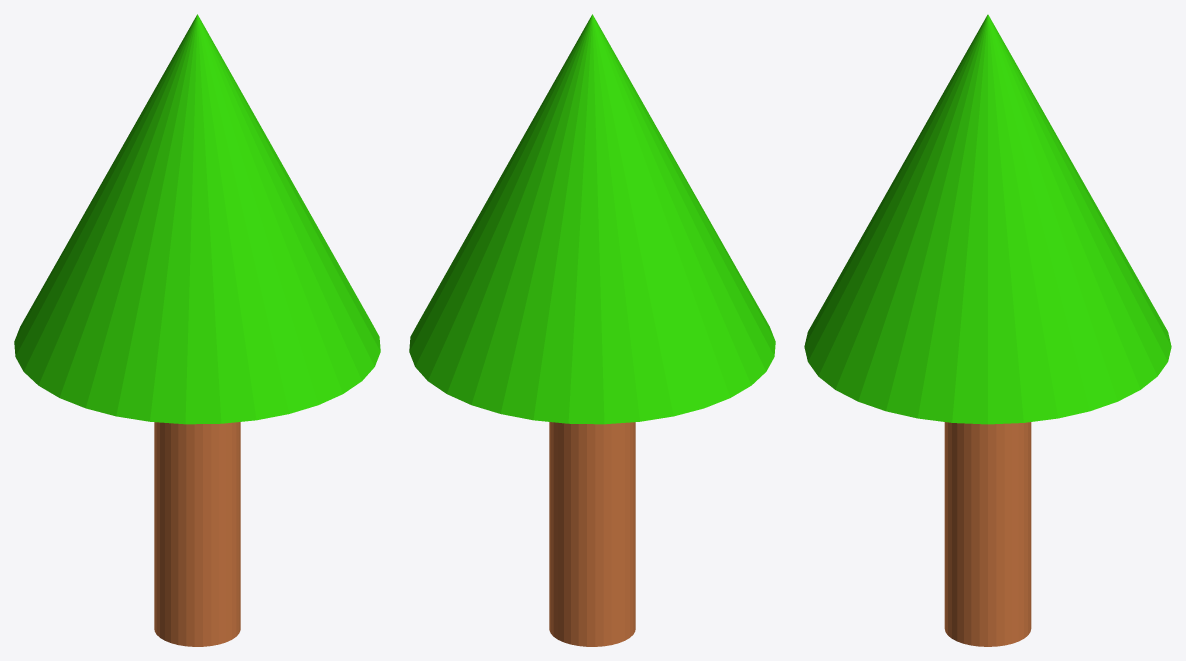
Rendered from tree.fbx.
The picture shows the model from 3 angles, left to right: view 1: azimuth 30°, elevation 25°; view 2: azimuth 150°, elevation 25°; view 3: azimuth 270°, elevation 25°; orthographic projection.
Parts seen in each view (by area): view 1: Cone, Cylinder; view 2: Cone, Cylinder; view 3: Cone, Cylinder.
Part boxes in pixels (bbox=[...]): Cone: bbox=[14, 14, 380, 424]; Cylinder: bbox=[154, 422, 240, 646]; Cone: bbox=[409, 14, 775, 424]; Cylinder: bbox=[549, 422, 635, 646]; Cone: bbox=[804, 14, 1171, 424]; Cylinder: bbox=[944, 422, 1031, 646].
Bounding box in the file's own units: 874 × 1613 × 874.
